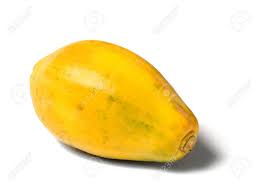papaya: (30, 39, 198, 164)
